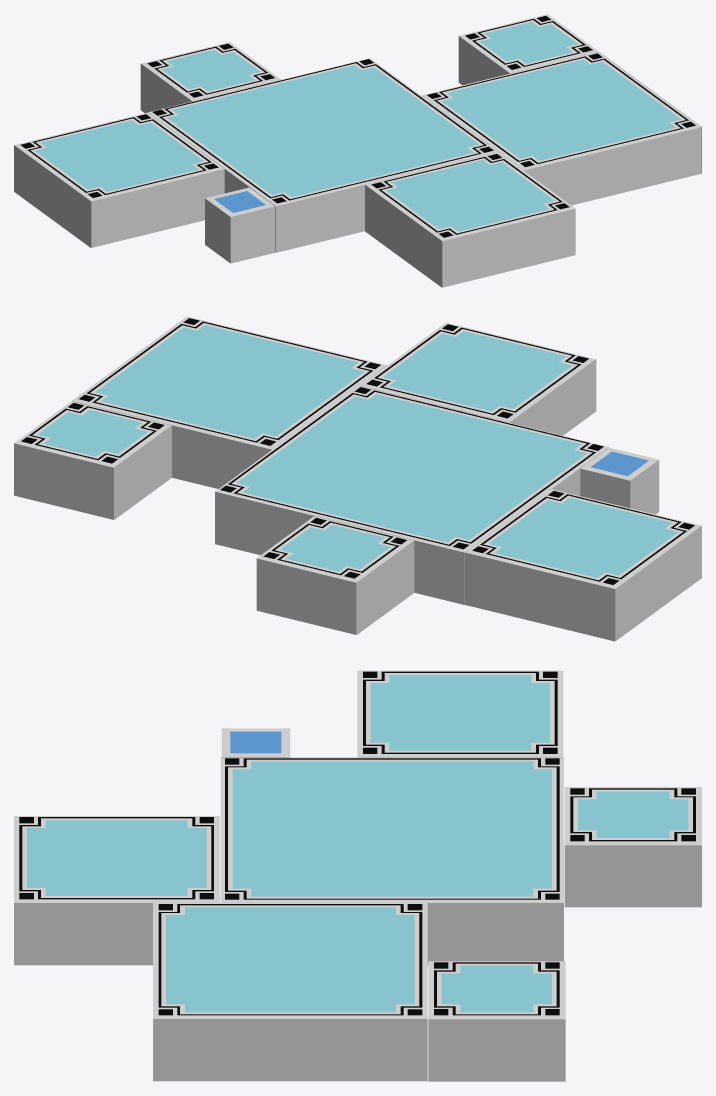
The model's file is startPlace.glb.
3 renders of one model, top to bottom at view 1: azimuth 30°, elevation 25°; view 2: azimuth 150°, elevation 25°; view 3: azimuth 270°, elevation 25°, orthographic. The views are drawn at different scales.
Visible parts, largest first — view 1: col2, col2.002, cube.002, cube.003, cube, col2.003, col2.004, cube.004, cube.006, col2.001, col2.005, cube.001 (+10 smaller); view 2: col2, col2.002, col2.003, col2.004, cube.005, cube.001, cube, col2.001, cube.002, col2.005, cube.004, cube.003 (+20 smaller); view 3: col2, col2.002, cube.002, col2.003, col2.004, cube, cube.003, cube.005, cube.001, col2.005, col2.001, cube.004 (+2 smaller).
Boxes of the visible parts, x1,y1,x2,y2 form: col2: [152, 59, 493, 203]; col2.002: [427, 53, 695, 166]; cube.002: [421, 52, 701, 205]; cube.003: [365, 152, 575, 287]; cube: [148, 58, 497, 252]; col2.003: [371, 154, 569, 237]; col2.004: [20, 114, 218, 197]; cube.004: [14, 112, 224, 247]; cube.006: [205, 187, 275, 263]; col2.001: [147, 43, 274, 97]; col2.005: [465, 16, 592, 69]; cube.001: [141, 42, 281, 101]; col2: [220, 387, 603, 549]; col2.002: [79, 318, 380, 445]; col2.003: [366, 324, 588, 418]; col2.004: [472, 491, 694, 584]; cube.005: [14, 401, 171, 519]; cube.001: [256, 516, 413, 634]; cube: [215, 386, 608, 604]; col2.001: [263, 518, 406, 578]; cube.002: [73, 316, 386, 449]; col2.005: [21, 403, 164, 463]; cube.004: [465, 489, 701, 640]; cube.003: [360, 322, 595, 422]; col2: [225, 758, 559, 899]; col2.002: [158, 904, 422, 1015]; cube.002: [153, 903, 427, 1081]; col2.003: [19, 817, 213, 899]; col2.004: [363, 671, 557, 753]; cube: [220, 758, 563, 964]; cube.003: [14, 816, 219, 965]; cube.005: [428, 961, 565, 1081]; cube.001: [564, 787, 701, 907]; col2.005: [434, 962, 559, 1015]; col2.001: [570, 788, 695, 841]; cube.004: [357, 670, 563, 757].
Size of the model in its own units: 60.1 by 5.21 by 50.1.
